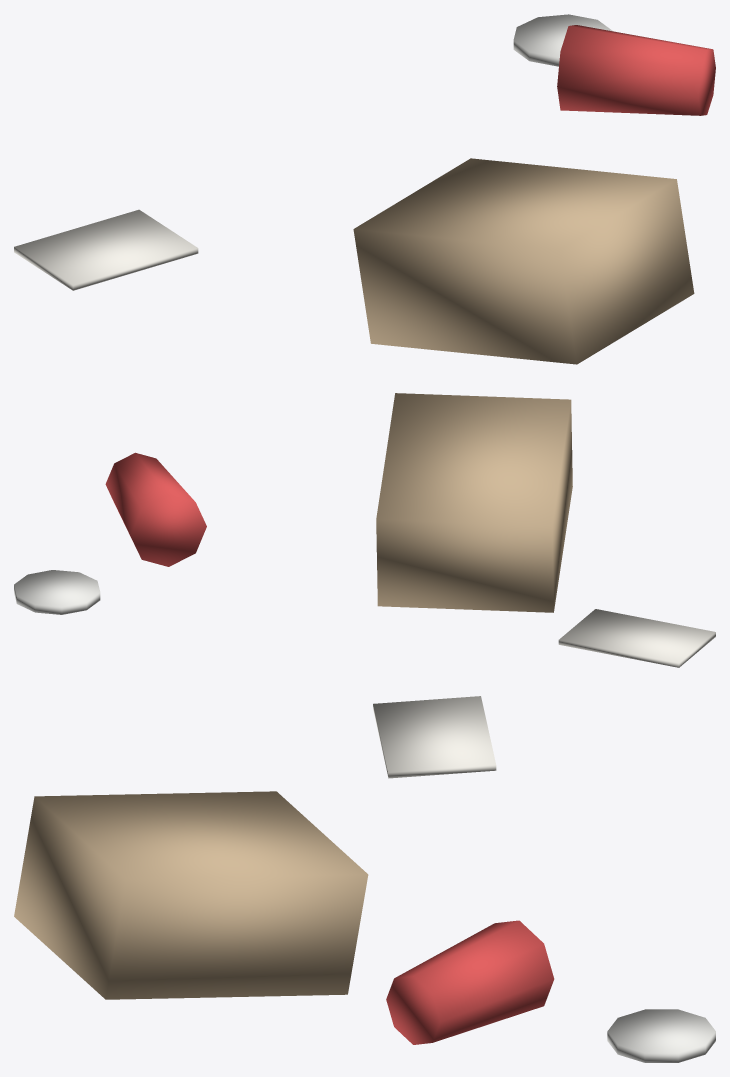
File: litter_d.glb
3 views of the same model, one above another, from view 1: azimuth 30°, elevation 25°; view 2: azimuth 150°, elevation 25°; view 3: azimuth 270°, elevation 25° (orthographic). The views are drawn at different scales.
Visible parts, largest first — view 1: litter_d; view 2: litter_d; view 3: litter_d.
Part boxes in pixels (x1,y1,x2,y2): litter_d: [14, 14, 715, 364]; litter_d: [14, 393, 715, 667]; litter_d: [14, 696, 715, 1062].
Bounding box in the file's own units: 0.7712 × 0.1616 × 0.6468.
